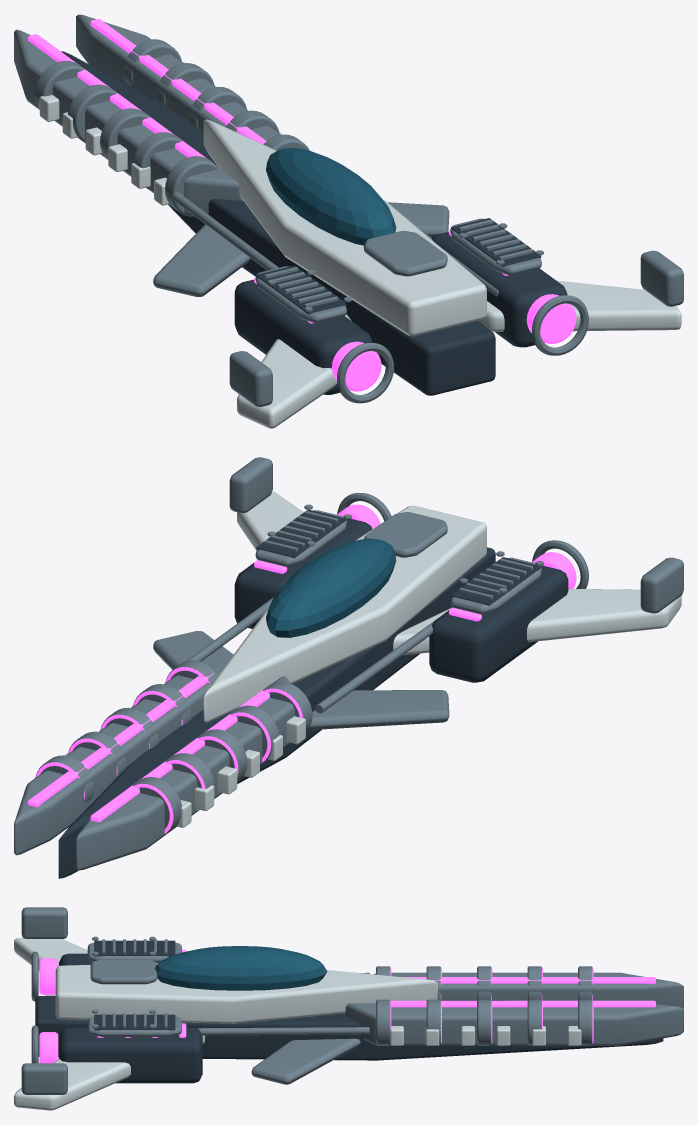
File: Needle.fbx
The picture shows the model from 3 angles, top to bottom: view 1: azimuth 30°, elevation 25°; view 2: azimuth 150°, elevation 25°; view 3: azimuth 270°, elevation 25°; orthographic projection. The views are drawn at different scales.
Parts seen in each view (by area): view 1: White dorsal shell.003, Needle central spar.003, Navigator canopy.003, Forward electromagnetic rail.006, Superconductor engine.006, Forward electromagnetic rail.007, Backward stabilizer.007, Superconductor engine.007, Backward stabilizer.006, Minimal forward canard.006, Inset service armor.226, Wingtip transceiver.006 (+22 smaller); view 2: White dorsal shell.003, Needle central spar.003, Navigator canopy.003, Superconductor engine.006, Forward electromagnetic rail.006, Forward electromagnetic rail.007, Backward stabilizer.006, Minimal forward canard.006, Superconductor engine.007, Inset service armor.226, Purple rail conductor.007, Backward stabilizer.007 (+21 smaller); view 3: White dorsal shell.003, Forward electromagnetic rail.007, Needle central spar.003, Navigator canopy.003, Superconductor engine.007, Forward electromagnetic rail.006, Minimal forward canard.007, Backward stabilizer.007, Inset service armor.226, Purple rail conductor.007, Wingtip transceiver.007, Wingtip transceiver.006 (+19 smaller).
Boxes of the visible parts, x1,y1,x2,y2 form: White dorsal shell.003: (203, 119, 486, 336); Needle central spar.003: (61, 51, 495, 395); Navigator canopy.003: (266, 148, 396, 245); Forward electromagnetic rail.006: (14, 29, 242, 216); Superconductor engine.006: (234, 279, 372, 394); Forward electromagnetic rail.007: (76, 14, 280, 140); Backward stabilizer.007: (478, 280, 681, 331); Superconductor engine.007: (431, 232, 567, 347); Backward stabilizer.006: (237, 314, 351, 428); Minimal forward canard.006: (153, 224, 250, 296); Inset service armor.226: (363, 231, 447, 276); Wingtip transceiver.006: (229, 351, 272, 406); White dorsal shell.003: (203, 505, 486, 722); Needle central spar.003: (58, 547, 495, 878); Navigator canopy.003: (266, 538, 396, 637); Superconductor engine.006: (429, 565, 568, 682); Forward electromagnetic rail.006: (76, 676, 294, 870); Forward electromagnetic rail.007: (14, 666, 224, 855); Backward stabilizer.006: (393, 588, 681, 655); Minimal forward canard.006: (308, 690, 449, 730); Superconductor engine.007: (234, 519, 371, 628); Inset service armor.226: (364, 512, 447, 557); Purple rail conductor.007: (28, 673, 213, 807); Backward stabilizer.007: (237, 491, 303, 550); White dorsal shell.003: (55, 963, 437, 1023); Forward electromagnetic rail.007: (344, 1003, 683, 1045); Needle central spar.003: (35, 995, 663, 1060); Navigator canopy.003: (154, 946, 327, 990); Superconductor engine.007: (59, 1027, 202, 1083); Forward electromagnetic rail.006: (374, 972, 683, 1008); Minimal forward canard.007: (251, 1038, 360, 1084); Backward stabilizer.007: (14, 1035, 204, 1110); Inset service armor.226: (90, 959, 157, 984); Purple rail conductor.007: (391, 1000, 655, 1007); Wingtip transceiver.007: (21, 1063, 67, 1094); Wingtip transceiver.006: (21, 907, 67, 938).
Bounding box in the file's own units: 282 × 78 × 491.
